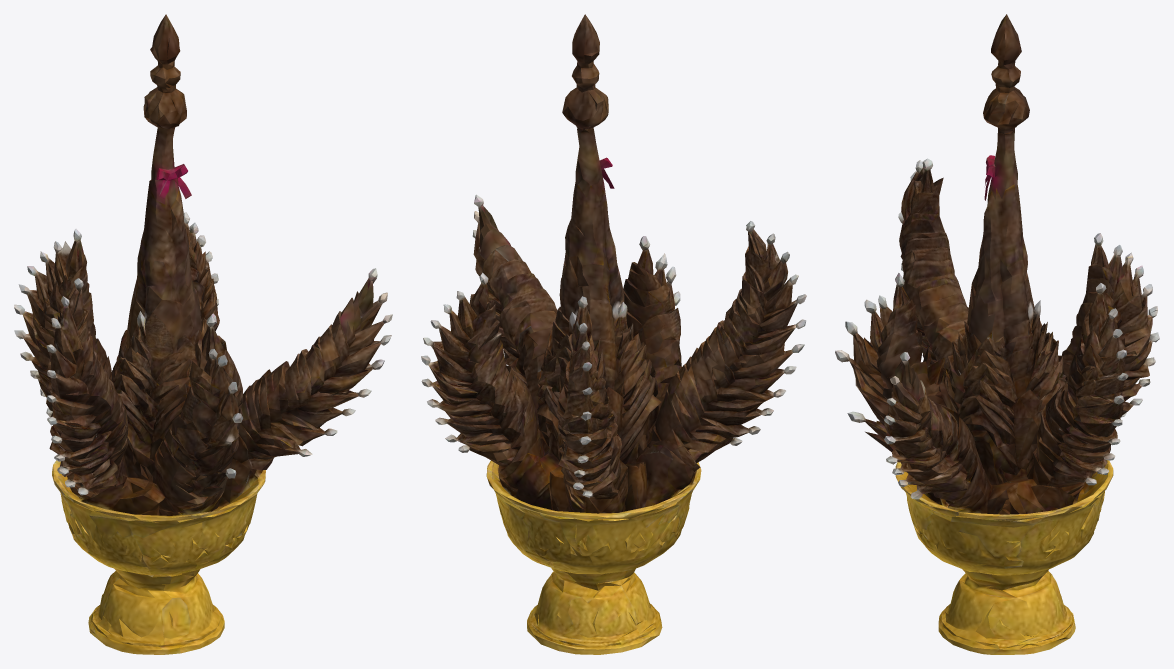
File: w3hbrownbaisri.glb
The picture shows the model from 3 angles, left to right: view 1: azimuth 30°, elevation 25°; view 2: azimuth 150°, elevation 25°; view 3: azimuth 270°, elevation 25°; orthographic projection.
Visible parts, largest first — view 1: output_unwrapped; view 2: output_unwrapped; view 3: output_unwrapped.
Part boxes in pixels (x1,y1,x2,y2): output_unwrapped: [14, 14, 392, 654]; output_unwrapped: [421, 14, 806, 654]; output_unwrapped: [835, 14, 1159, 654].
Size of the model in its own units: 0.2615 by 0.45 by 0.2145.
1 material, 1 textured.
